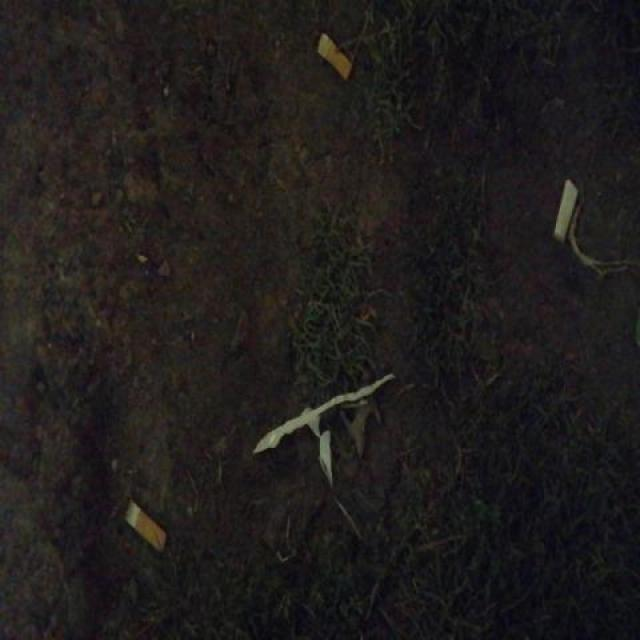non-organic waste: (121, 495, 171, 557), (314, 26, 354, 87), (552, 174, 581, 245)
